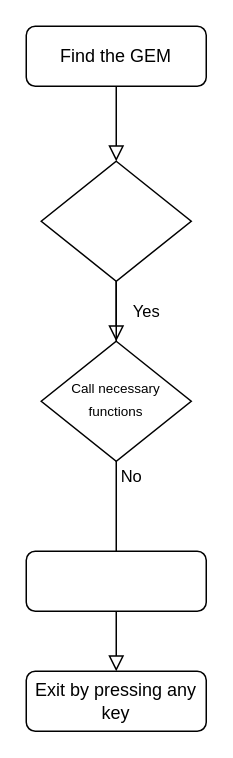
Some shapes in this 233 by 758 pixel diagram are drawn without their labels. Each missing label, with the box of its shape:
Show Success: (25, 550, 206, 611)
Wait for input: (40, 160, 191, 281)
